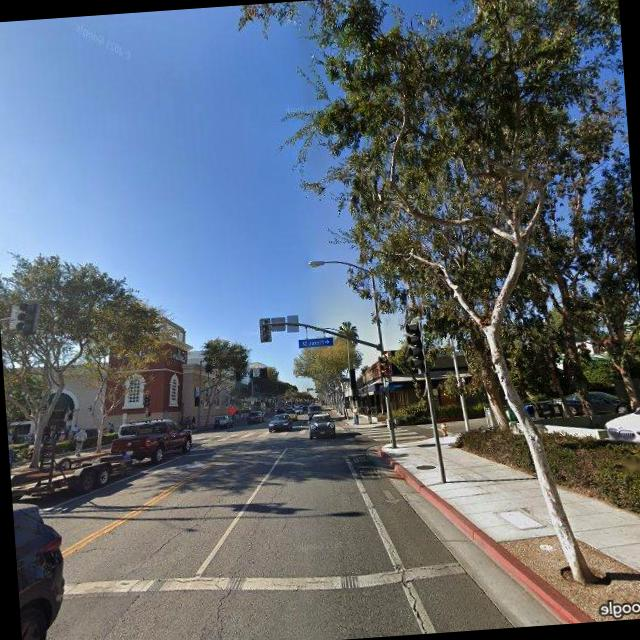crack: (167, 484, 305, 640)
pothole: (121, 494, 230, 576), (399, 562, 435, 634)
